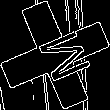M_SW: (22, 24, 88, 86)
